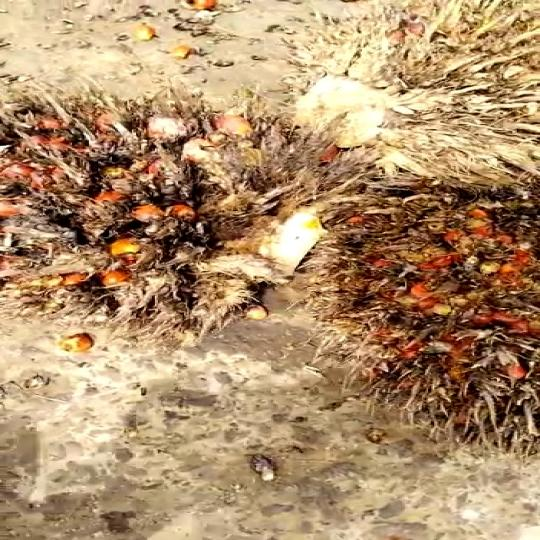terlalu masak: (0, 118, 336, 313)
